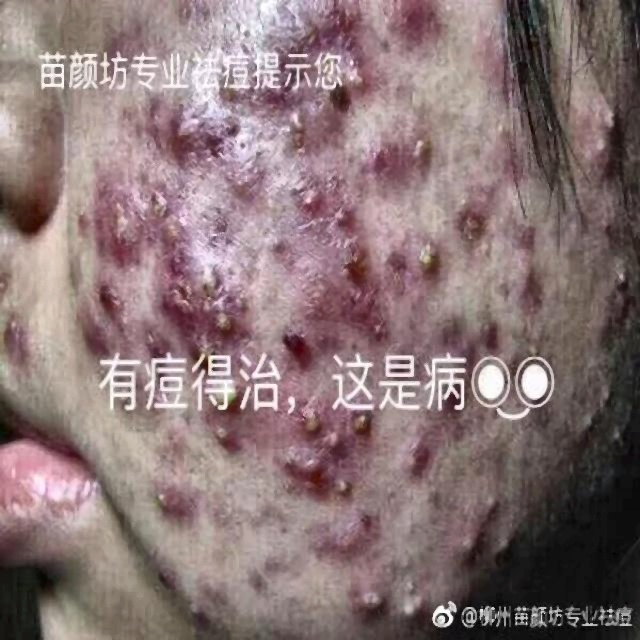nodule: (294, 3, 358, 50), (134, 319, 176, 384), (153, 479, 193, 534), (384, 570, 422, 624), (583, 92, 623, 142), (225, 151, 262, 203), (383, 1, 422, 50), (172, 99, 204, 158), (62, 182, 98, 233), (138, 92, 168, 150), (354, 125, 386, 178), (182, 593, 223, 634), (335, 54, 370, 101), (568, 398, 600, 448), (398, 425, 428, 478), (96, 209, 132, 253), (206, 290, 235, 344), (507, 213, 546, 252), (330, 513, 360, 562), (253, 543, 287, 586), (469, 307, 502, 351), (344, 392, 374, 440), (280, 401, 319, 437), (337, 246, 372, 286), (67, 317, 100, 358), (506, 265, 536, 310), (455, 196, 482, 245), (282, 451, 314, 492), (163, 286, 192, 331), (472, 475, 502, 518), (589, 132, 621, 172), (282, 111, 314, 149), (209, 374, 244, 408), (328, 471, 362, 506), (100, 274, 125, 320), (482, 528, 509, 570), (493, 108, 514, 162), (353, 321, 388, 353), (366, 567, 389, 613), (158, 215, 188, 250), (141, 188, 166, 229), (411, 122, 433, 168), (610, 255, 633, 297), (1, 310, 26, 347), (290, 184, 317, 218), (318, 417, 341, 455), (443, 518, 470, 549), (202, 420, 223, 458), (416, 240, 441, 269), (434, 308, 455, 342), (195, 343, 218, 374), (195, 258, 218, 288), (385, 243, 401, 283), (335, 195, 352, 227), (412, 228, 423, 264), (503, 41, 514, 66), (429, 148, 436, 166)
